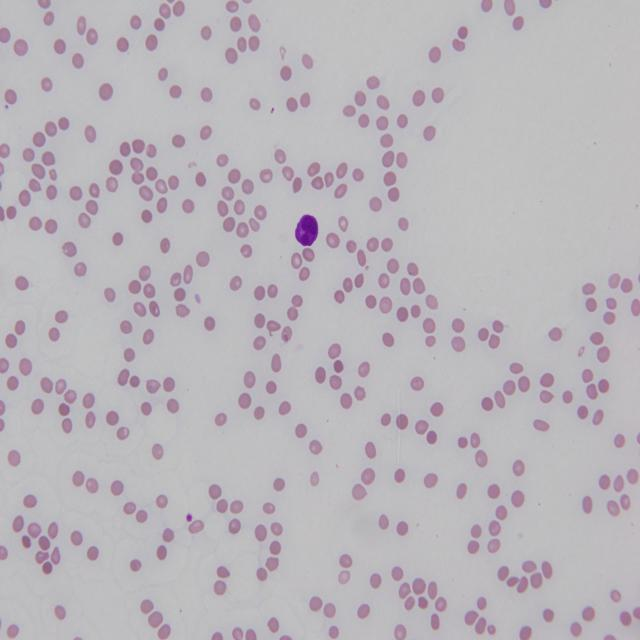cell: (295, 215, 319, 245)
